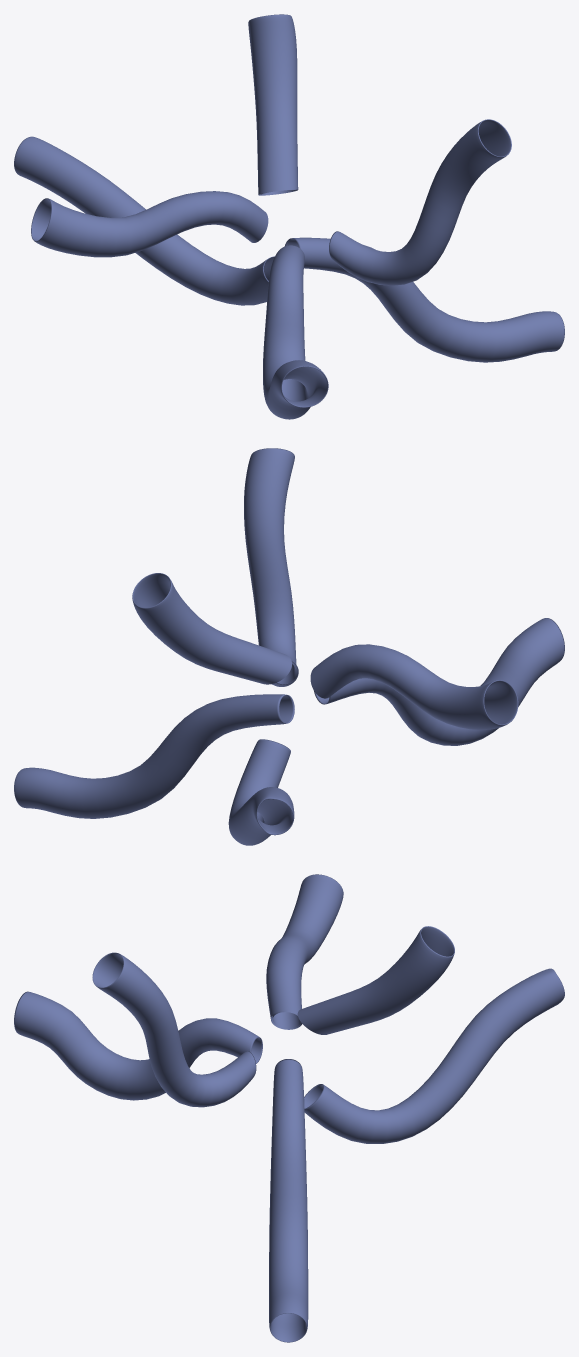
The model's file is tubes.glb.
3 views of the same model, one above another, from view 1: azimuth 30°, elevation 25°; view 2: azimuth 150°, elevation 25°; view 3: azimuth 270°, elevation 25° (orthographic). The views are drawn at different scales.
Visible parts, largest first — view 1: tube_5, tube_4, tube_6, tube_1, tube_2, tube_3; view 2: tube_1, tube_6, tube_4, tube_2, tube_3, tube_5; view 3: tube_5, tube_1, tube_3, tube_6, tube_2, tube_4.
Part boxes in pixels (x1,y1,x2,y2): tube_5: (14, 136, 274, 305); tube_4: (31, 191, 268, 257); tube_6: (329, 119, 511, 285); tube_1: (284, 237, 564, 362); tube_2: (248, 14, 298, 195); tube_3: (263, 245, 328, 419); tube_1: (14, 694, 294, 818); tube_6: (244, 448, 298, 686); tube_4: (310, 644, 518, 729); tube_2: (132, 573, 291, 684); tube_3: (314, 618, 564, 745); tube_5: (228, 739, 294, 845); tube_5: (304, 968, 564, 1143); tube_1: (269, 1059, 308, 1342); tube_3: (14, 991, 262, 1100); tube_6: (92, 952, 256, 1107); tube_2: (297, 926, 454, 1034); tube_4: (266, 874, 343, 1029).
Size of the model in its own units: 24.07 by 15.13 by 23.75.
